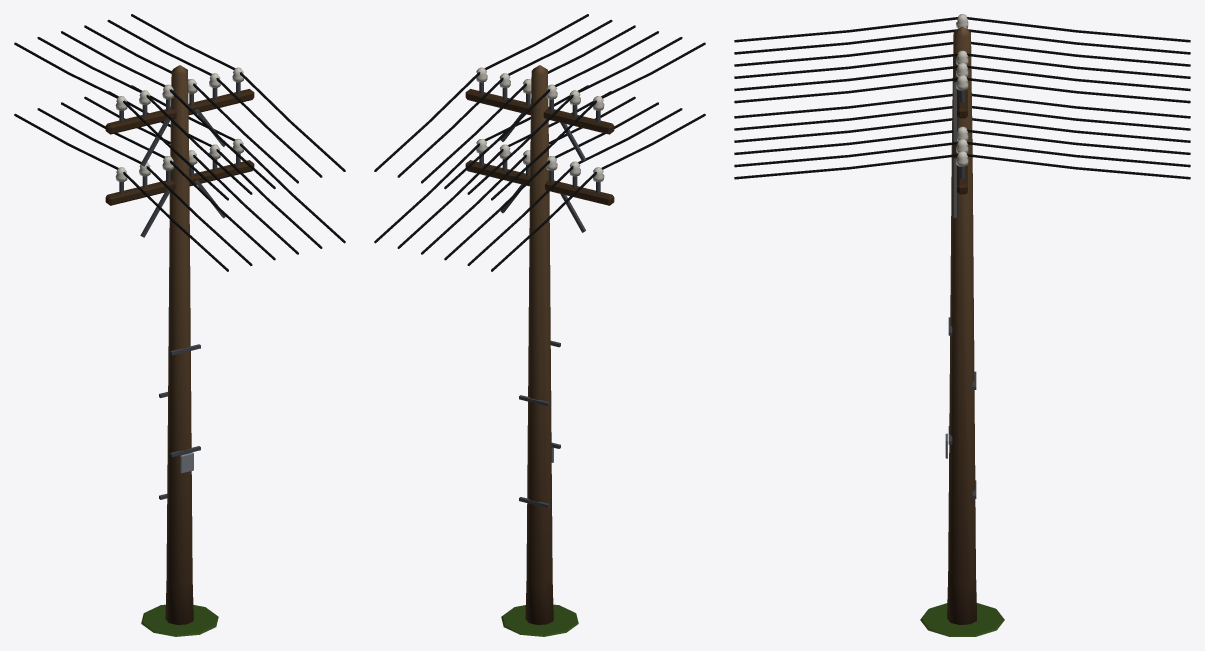
File: telegraph-pole.glb
3 views of the same model, side by side, from view 1: azimuth 30°, elevation 25°; view 2: azimuth 150°, elevation 25°; view 3: azimuth 270°, elevation 25° (orthographic). The views are drawn at different scales.
Visible parts, largest first — view 1: telegraph_pole; view 2: telegraph_pole; view 3: telegraph_pole.
Boxes of the visible parts, x1,y1,x2,y2 form: telegraph_pole: (14,14,345,636); telegraph_pole: (374,14,705,636); telegraph_pole: (734,14,1190,636).
Bounding box in the file's own units: 1.5 × 5.46 × 3.8.
